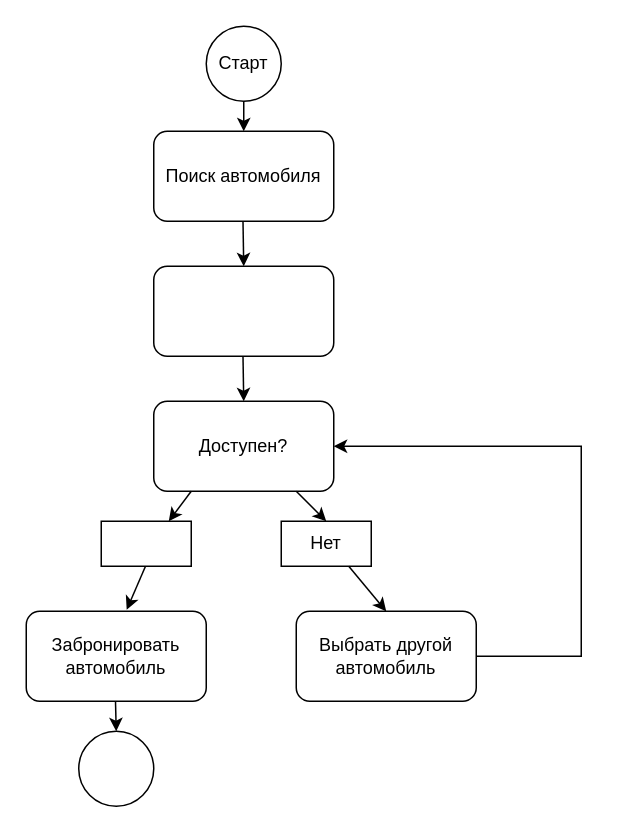
Image size: 620x833. Some labels were removed from this diagram. Each missing label, with the centre of its shape:
"Да" belongs at [145,543].
"Конец" belongs at [115,768].
"Проверка доступности" belongs at [243,310].
